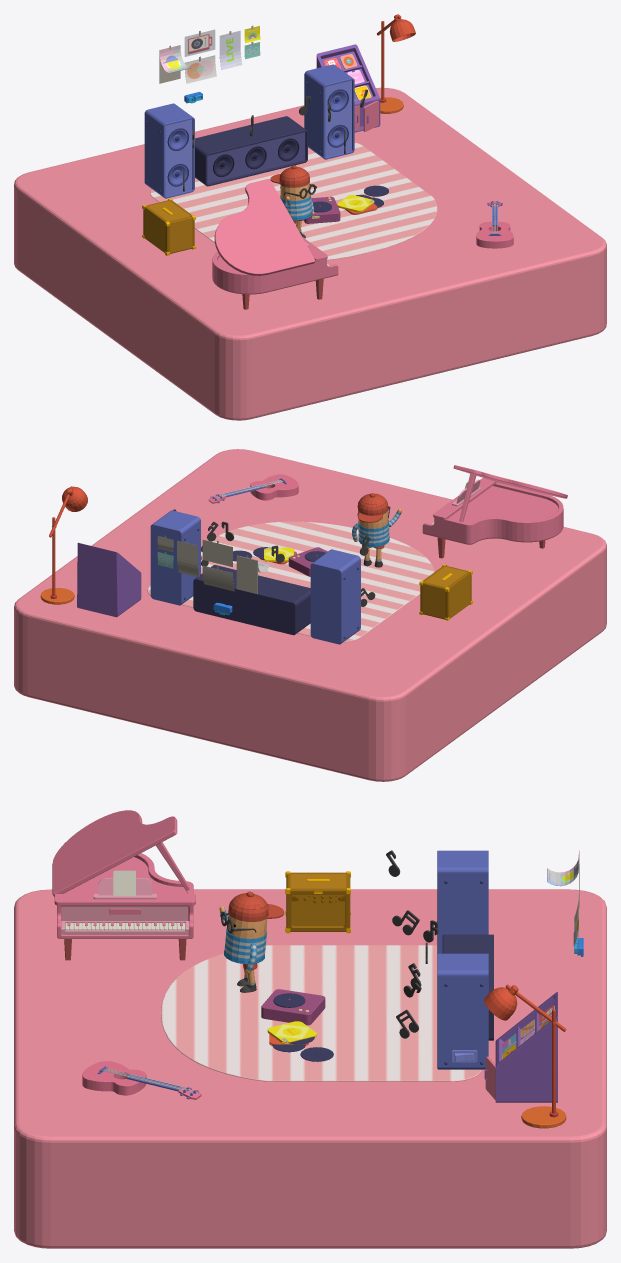
The model's file is stage_06_uv.fbx.
3 views of the same model, one above another, from view 1: azimuth 30°, elevation 25°; view 2: azimuth 150°, elevation 25°; view 3: azimuth 270°, elevation 25° (orthographic). The views are drawn at different scales.
Visible parts, largest first — view 1: bg_1, RUG_1, PIANO_1, Speaker_01_1, Speaker_03_1, Speaker_02_1, posters, record_pop_1, Audio_Amp_1, character_1, stand_1, Speaker_01_02_1 (+5 smaller); view 2: bg_1, RUG_1, PIANO_1, Speaker_01_1, Speaker_03_1, record_pop_1, posters, Speaker_02_1, Audio_Amp_1, character_1, stand_1, Guitar_1 (+2 smaller); view 3: bg_1, RUG_1, PIANO_1, Speaker_02_1, record_pop_1, Speaker_03_1, Audio_Amp_1, character_1, stand_1, Guitar_1, turn_table_1, record_package (+2 smaller).
Part boxes in pixels (left/top/right/bottom): bg_1: left=14, top=87, right=606, bottom=420; RUG_1: left=150, top=142, right=437, bottom=260; PIANO_1: left=212, top=179, right=338, bottom=309; Speaker_01_1: left=195, top=116, right=307, bottom=186; Speaker_03_1: left=144, top=103, right=194, bottom=198; Speaker_02_1: left=304, top=64, right=354, bottom=159; posters: left=159, top=25, right=260, bottom=83; record_pop_1: left=316, top=44, right=380, bottom=132; Audio_Amp_1: left=142, top=198, right=195, bottom=255; character_1: left=270, top=165, right=316, bottom=238; stand_1: left=377, top=14, right=415, bottom=113; Speaker_01_02_1: left=213, top=138, right=299, bottom=176; bg_1: left=14, top=449, right=606, bottom=781; RUG_1: left=147, top=521, right=434, bottom=642; PIANO_1: left=422, top=465, right=567, bottom=558; Speaker_01_1: left=193, top=565, right=310, bottom=635; Speaker_03_1: left=310, top=549, right=360, bottom=644; record_pop_1: left=77, top=542, right=141, bottom=617; posters: left=157, top=535, right=269, bottom=594; Speaker_02_1: left=150, top=510, right=200, bottom=605; Audio_Amp_1: left=419, top=564, right=472, bottom=620; character_1: left=352, top=493, right=401, bottom=567; stand_1: left=40, top=486, right=87, bottom=604; Guitar_1: left=208, top=474, right=298, bottom=503; bg_1: left=14, top=889, right=606, bottom=1248; RUG_1: left=161, top=945, right=481, bottom=1081; PIANO_1: left=52, top=810, right=195, bottom=960; Speaker_02_1: left=437, top=953, right=488, bottom=1069; record_pop_1: left=484, top=992, right=557, bottom=1102; Speaker_03_1: left=437, top=850, right=488, bottom=953; Audio_Amp_1: left=285, top=871, right=350, bottom=933; character_1: left=219, top=891, right=284, bottom=992; stand_1: left=484, top=984, right=566, bottom=1128; Guitar_1: left=82, top=1061, right=201, bottom=1099; turn_table_1: left=261, top=989, right=325, bottom=1025; record_package: left=267, top=1021, right=333, bottom=1061.
Bounding box in the file's own units: 1300 × 618 × 1300.
25 materials, 25 textured.
